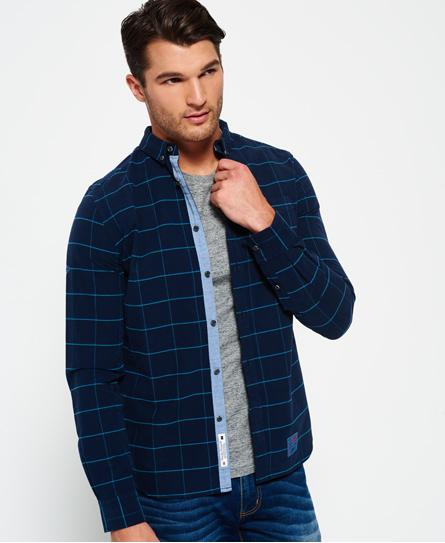teeshirt: (77, 142, 357, 492)
